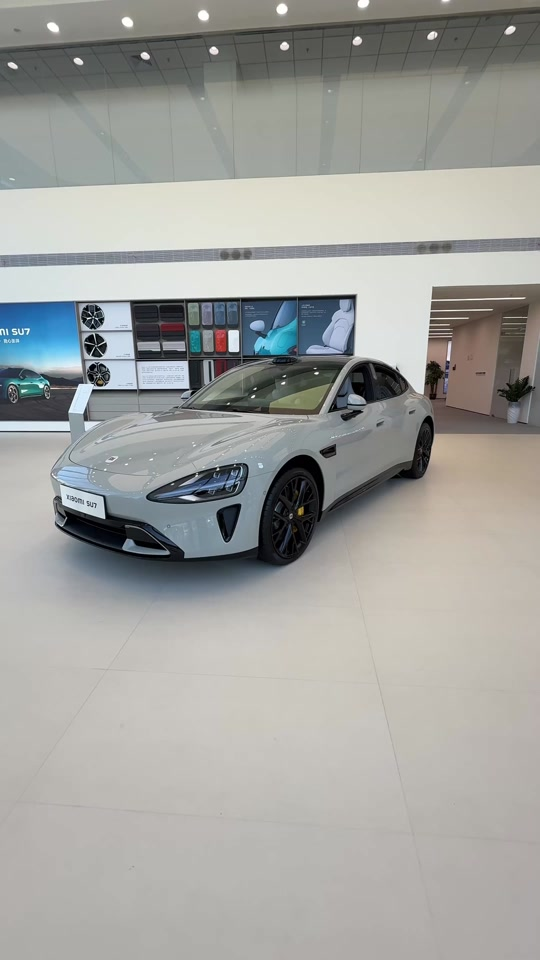su7: (36, 353, 429, 565)
